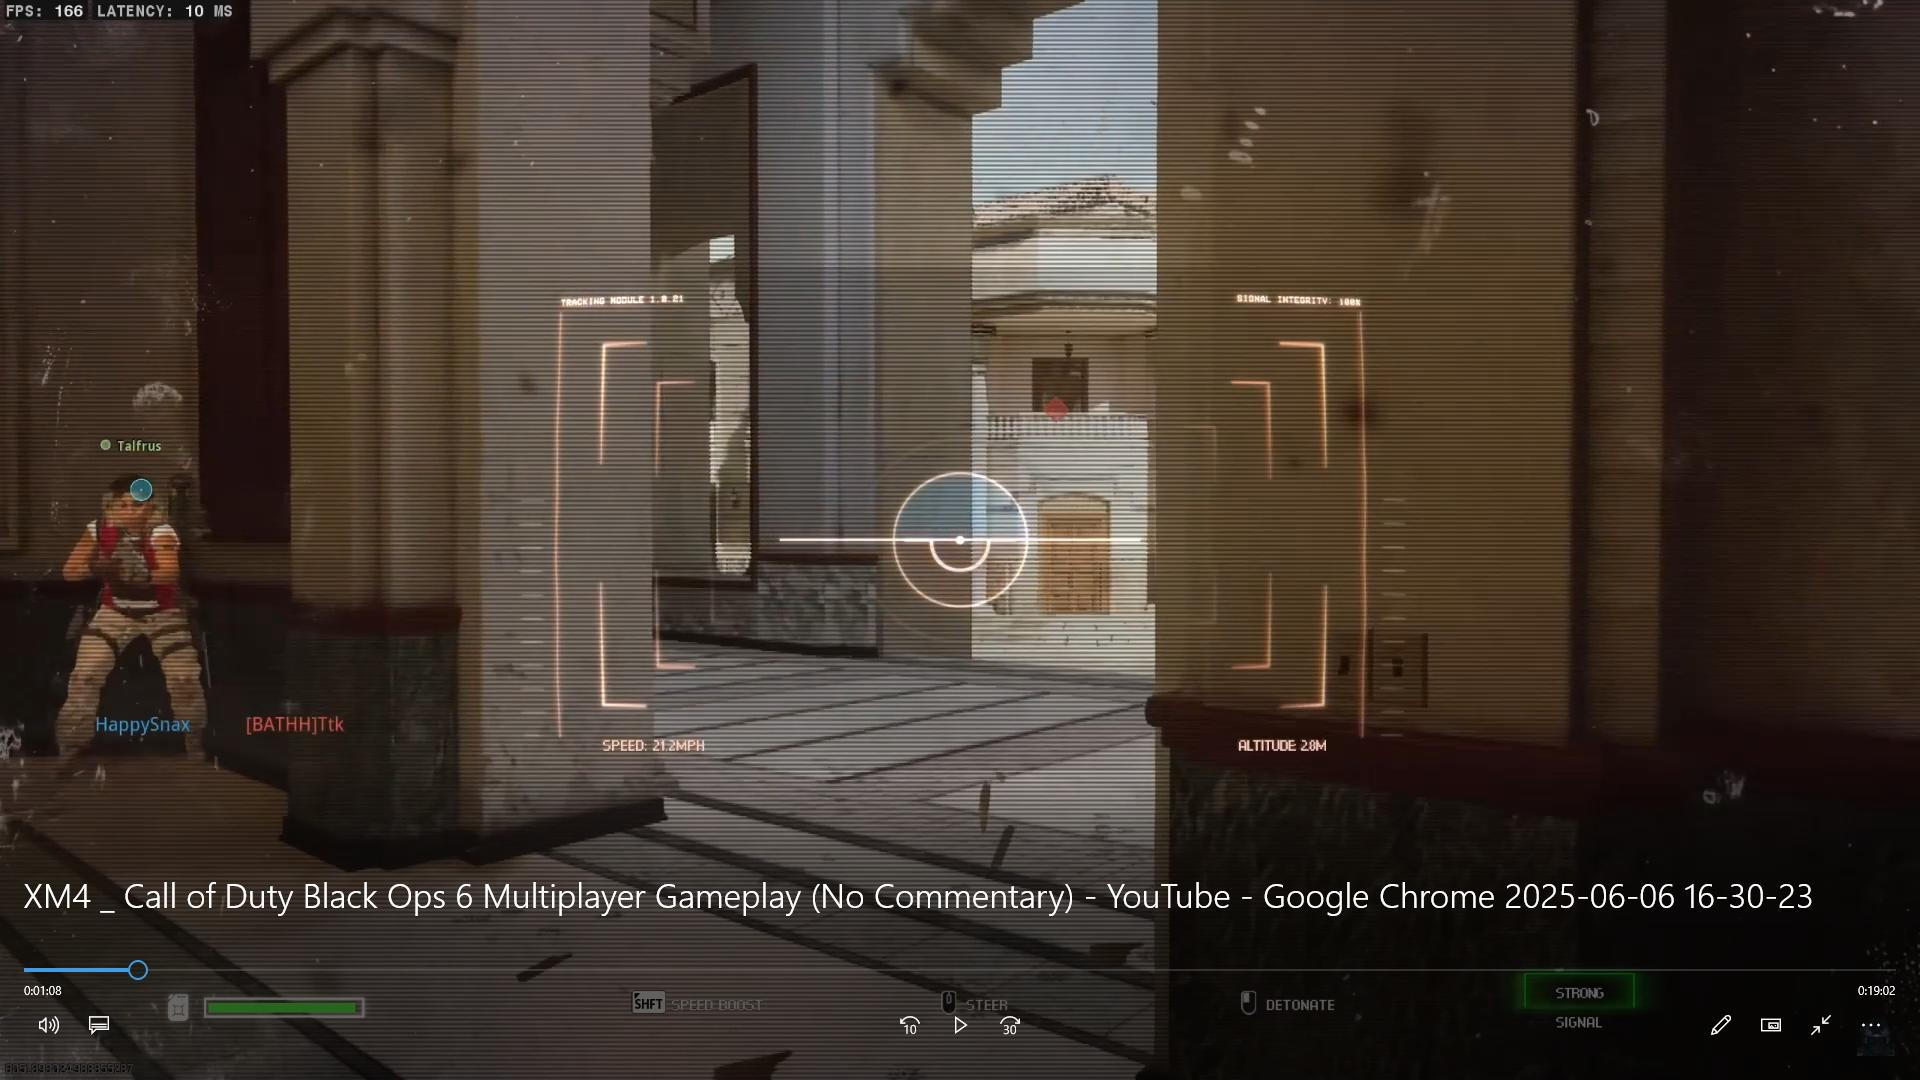Enemy: (92, 477, 204, 674)
